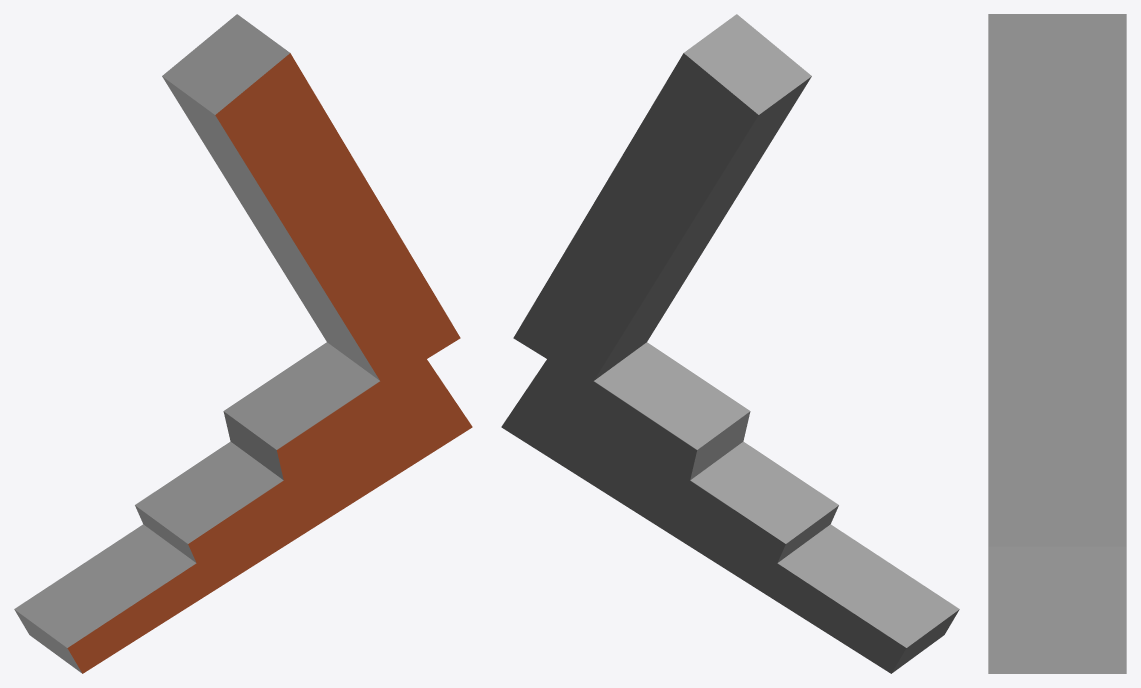
Rendered from construction_5786_assumed_A_Casa_h6m.obj.
3 renders of one model, left to right at view 1: azimuth 30°, elevation 25°; view 2: azimuth 150°, elevation 25°; view 3: azimuth 270°, elevation 25°, orthographic. The views are drawn at different scales.
Visible parts, largest first — view 1: construction_5786_assumed_A_Casa; view 2: construction_5786_assumed_A_Casa; view 3: construction_5786_assumed_A_Casa.
Boxes of the visible parts, x1=… form: construction_5786_assumed_A_Casa: x1=14, y1=14, x2=472, y2=673; construction_5786_assumed_A_Casa: x1=501, y1=14, x2=959, y2=673; construction_5786_assumed_A_Casa: x1=988, y1=14, x2=1126, y2=673.
Bounding box in the file's own units: 26.37 × 35.44 × 6.
